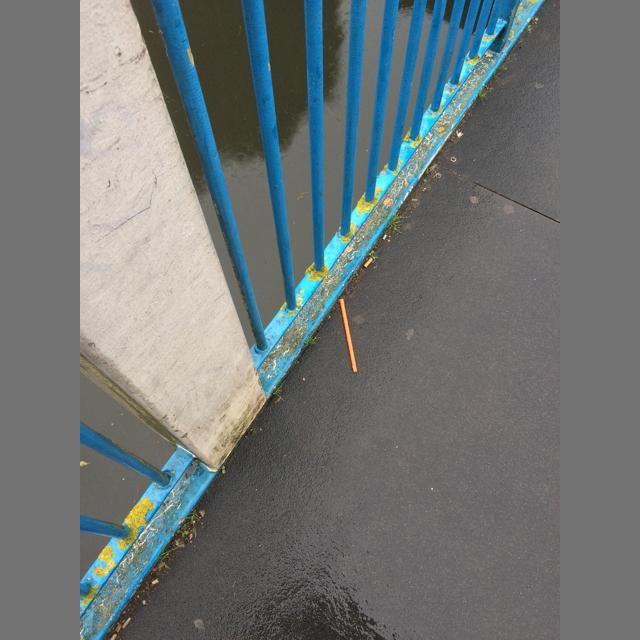litter: (340, 299, 357, 373), (121, 617, 131, 630), (363, 258, 373, 268), (115, 624, 122, 633), (110, 634, 116, 640)
